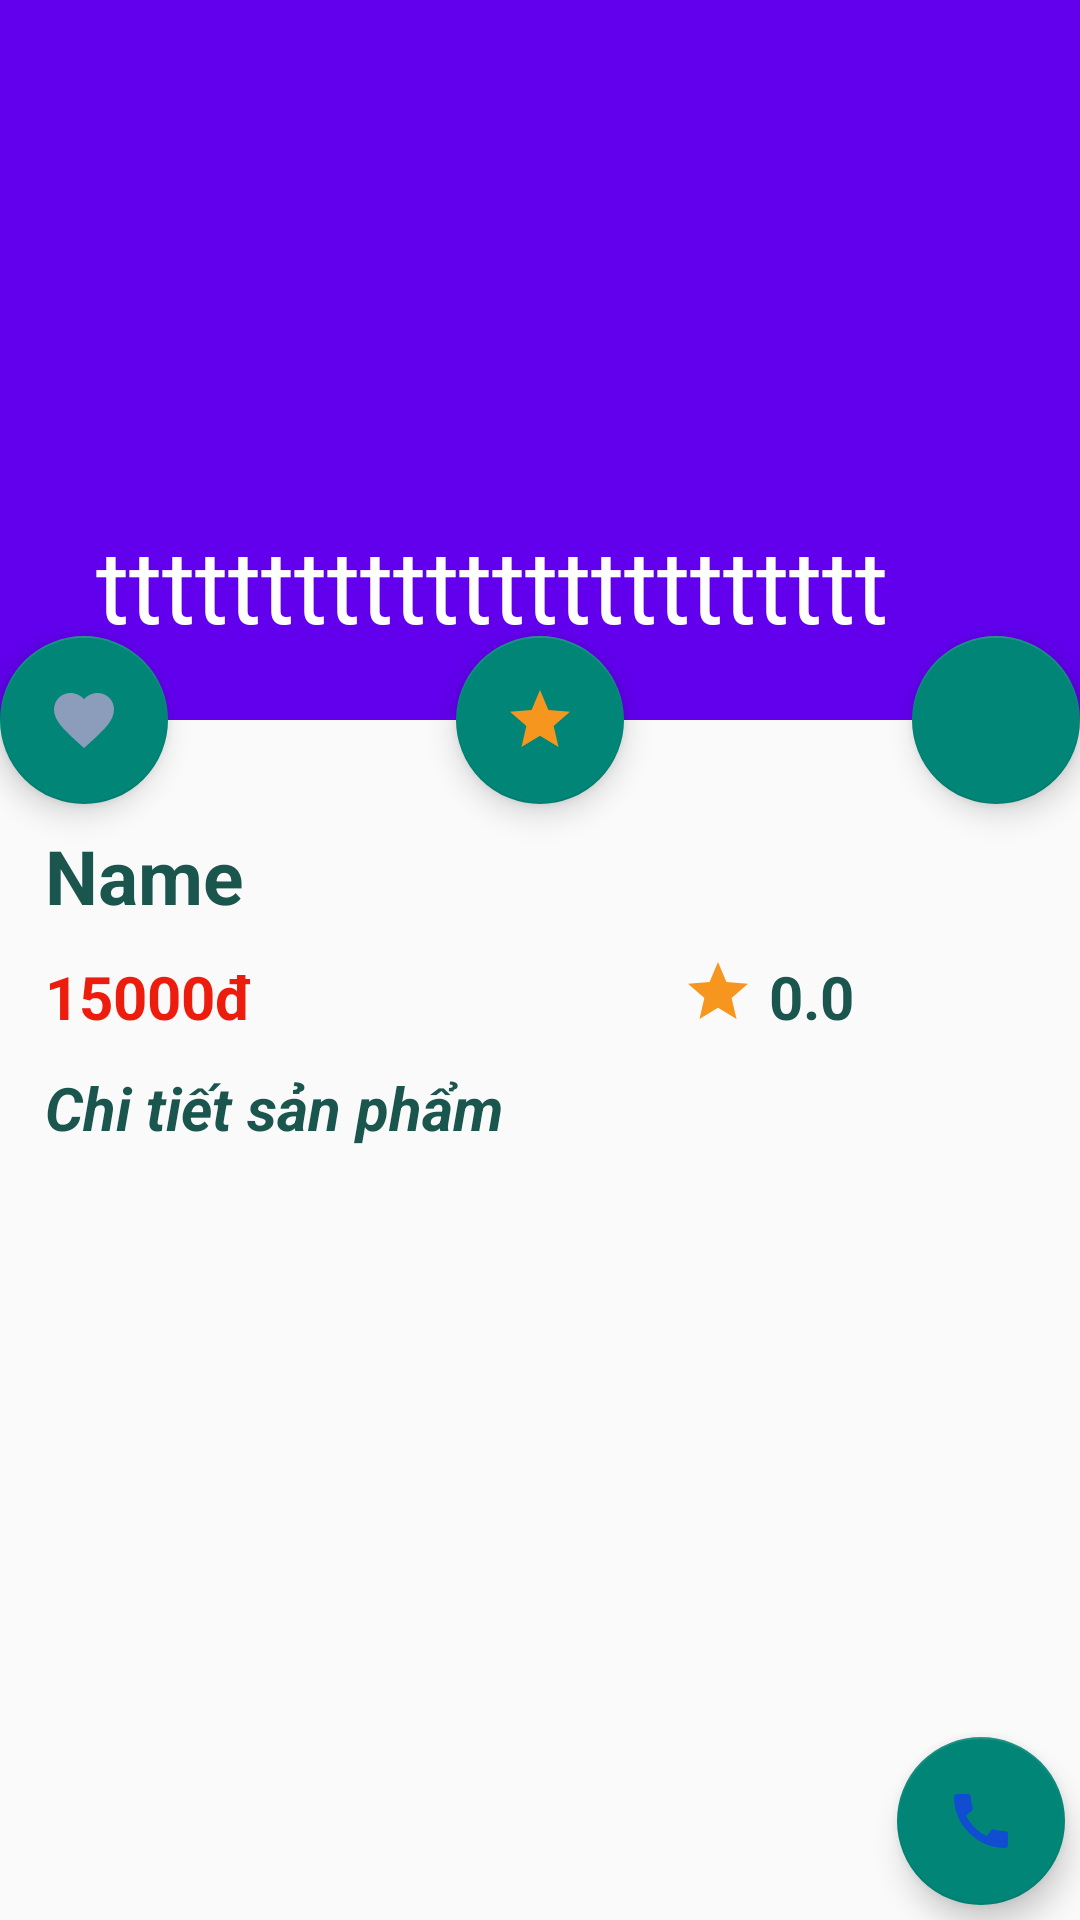

Screen size 1080×1920. Icon name, then its center in pixels as [x,y]:
call: [981,1821]
favorite: [84,720]
star: [540,720], [718,990]
